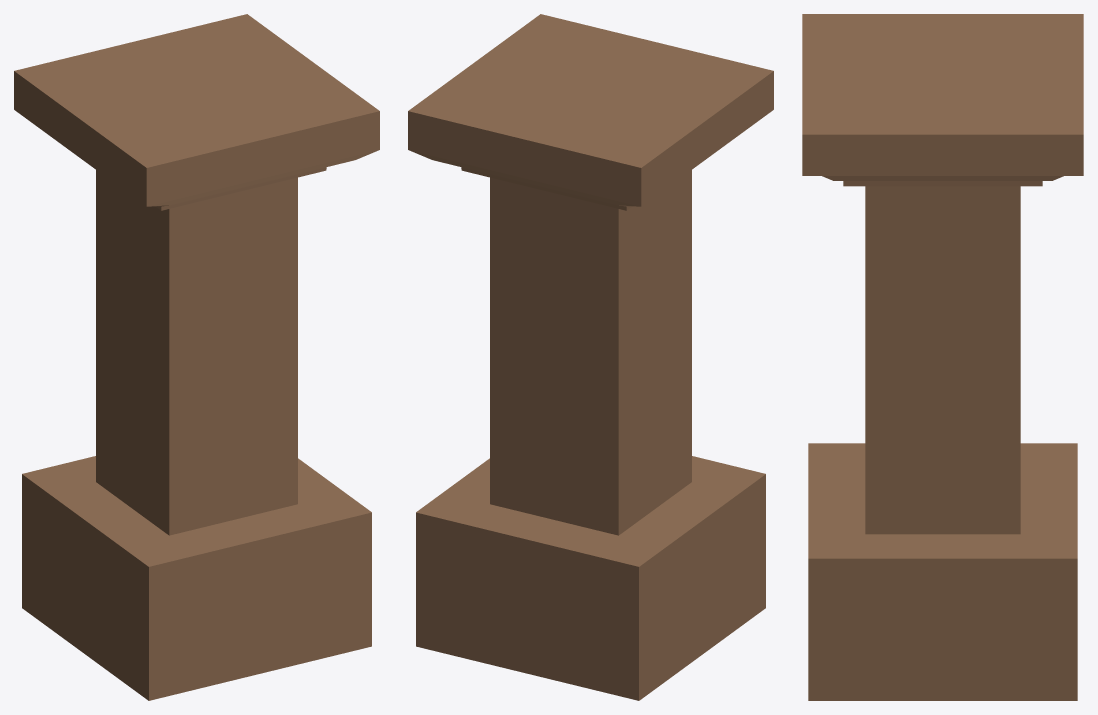
File: Ginseng-01.FBX
The picture shows the model from 3 angles, left to right: view 1: azimuth 30°, elevation 25°; view 2: azimuth 150°, elevation 25°; view 3: azimuth 270°, elevation 25°; orthographic projection. The views are drawn at different scales.
Parts seen in each view (by area): view 1: Object001; view 2: Object001; view 3: Object001.
Boxes of the visible parts, left/top/right/bottom form: Object001: left=14, top=14, right=379, bottom=700; Object001: left=408, top=14, right=773, bottom=700; Object001: left=802, top=14, right=1083, bottom=700.
Size of the model in its own units: 98.92 by 217 by 97.44.
